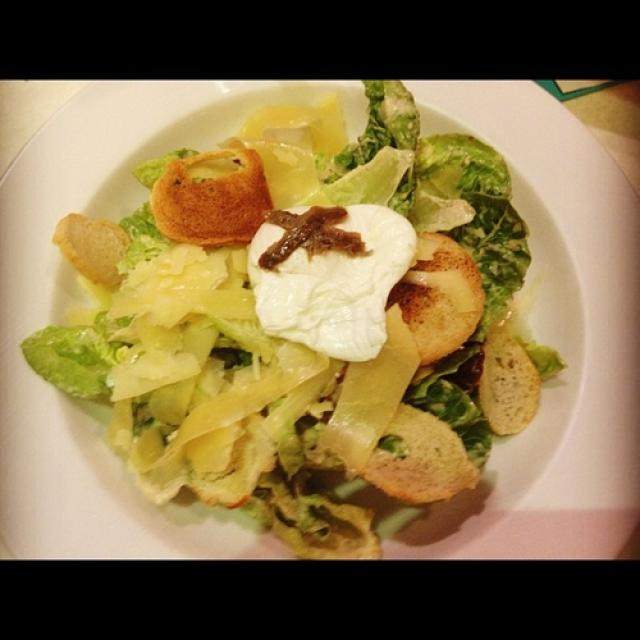蔬菜料理: (51, 96, 595, 547)
